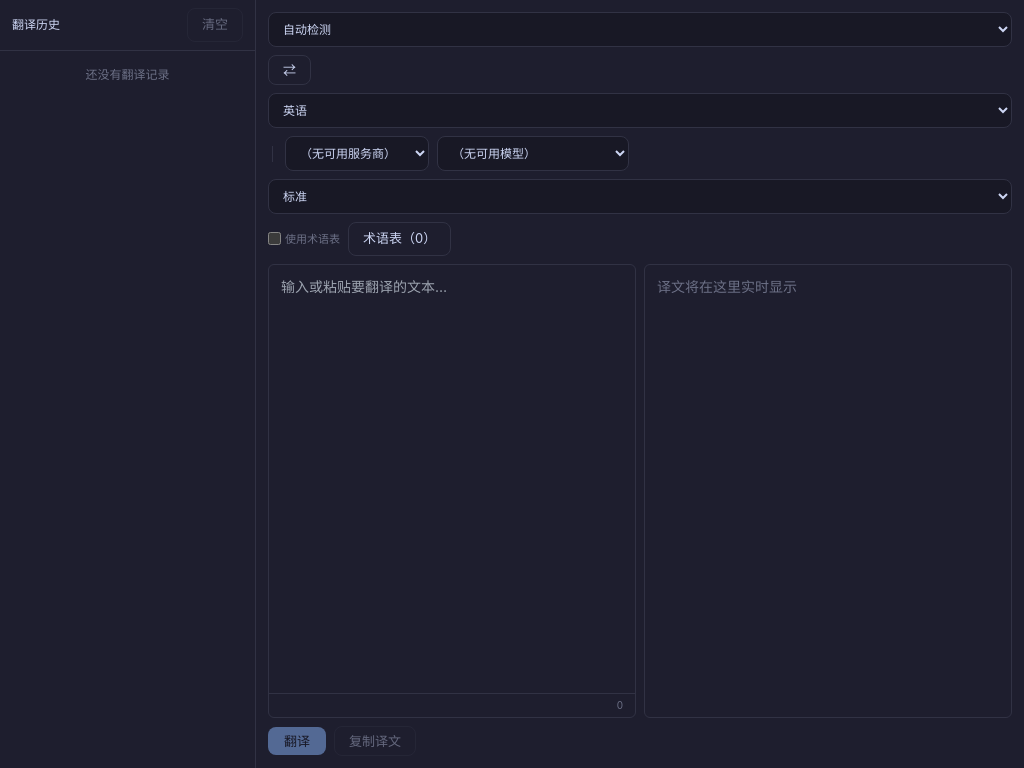
Test: 失败路径：输入必须留住（注释承诺的那件事现在真的成立） › reject 路径（桥异常）：内联那句「添加失败，请重试」出现，输入也保留
The width and height of the screenshot is (1024, 768).
Click the button "术语表（0）" at (400, 239), box 348,222 -> 451,256
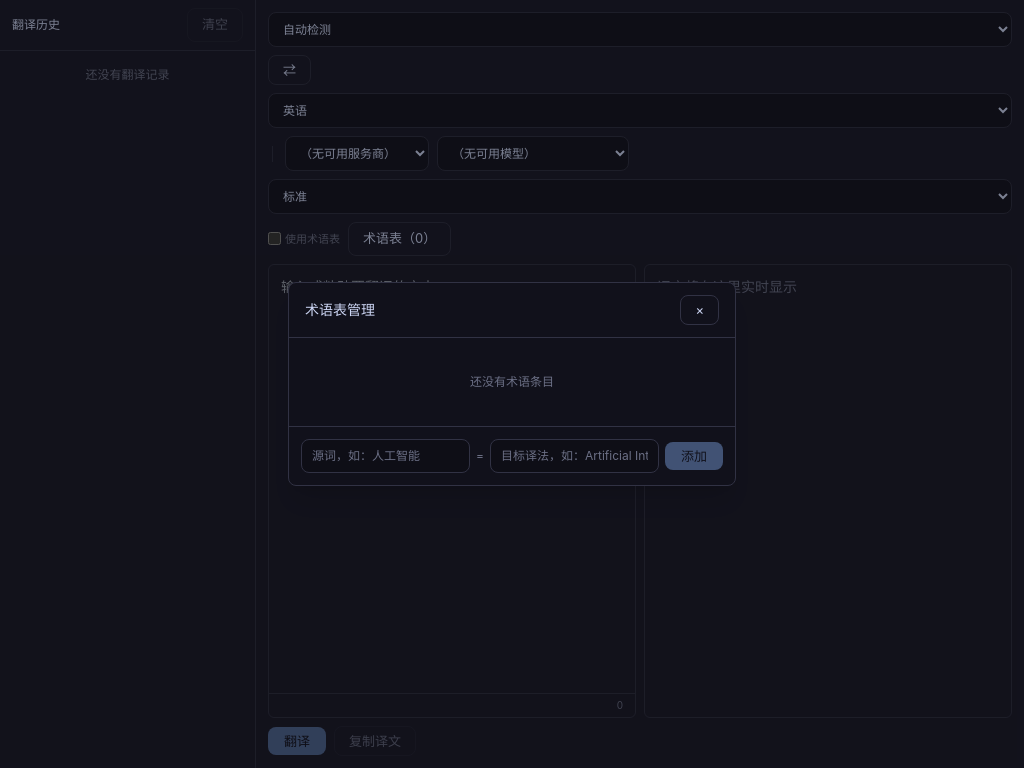
Type "人工智能" into the field with placeholder "源词，如：人工智能" at (386, 456), box 301,439 -> 470,473
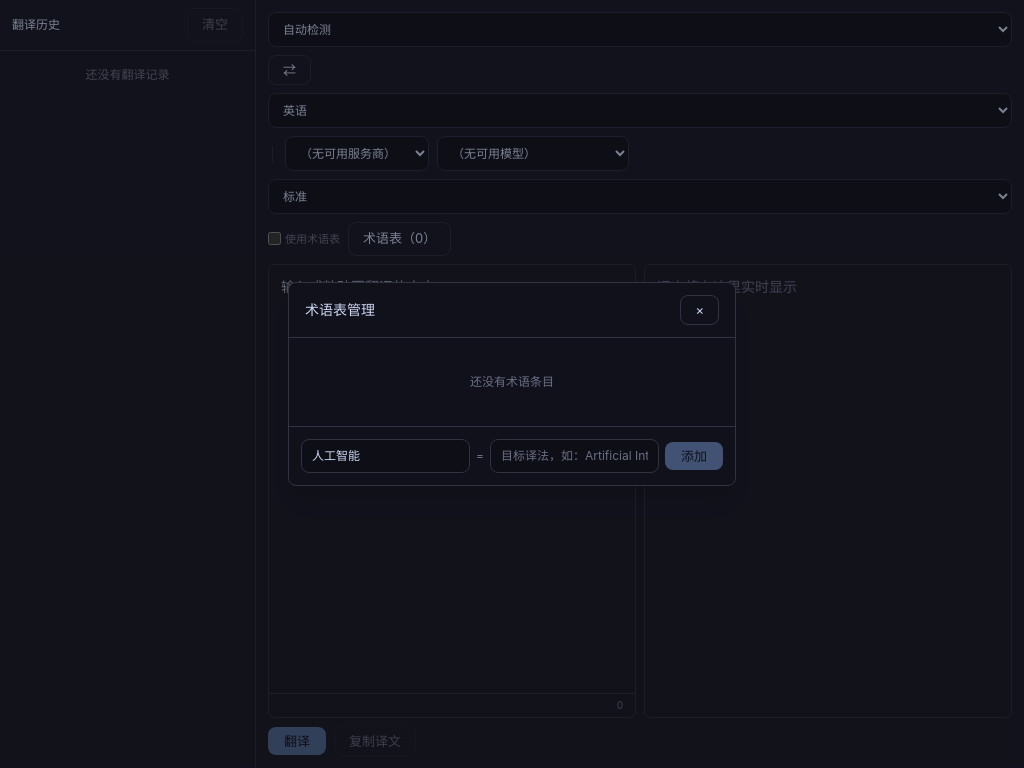
Type "AI" into the field with placeholder "目标译法，如：Artificial Intelligence" at (574, 456), box 490,439 -> 659,473
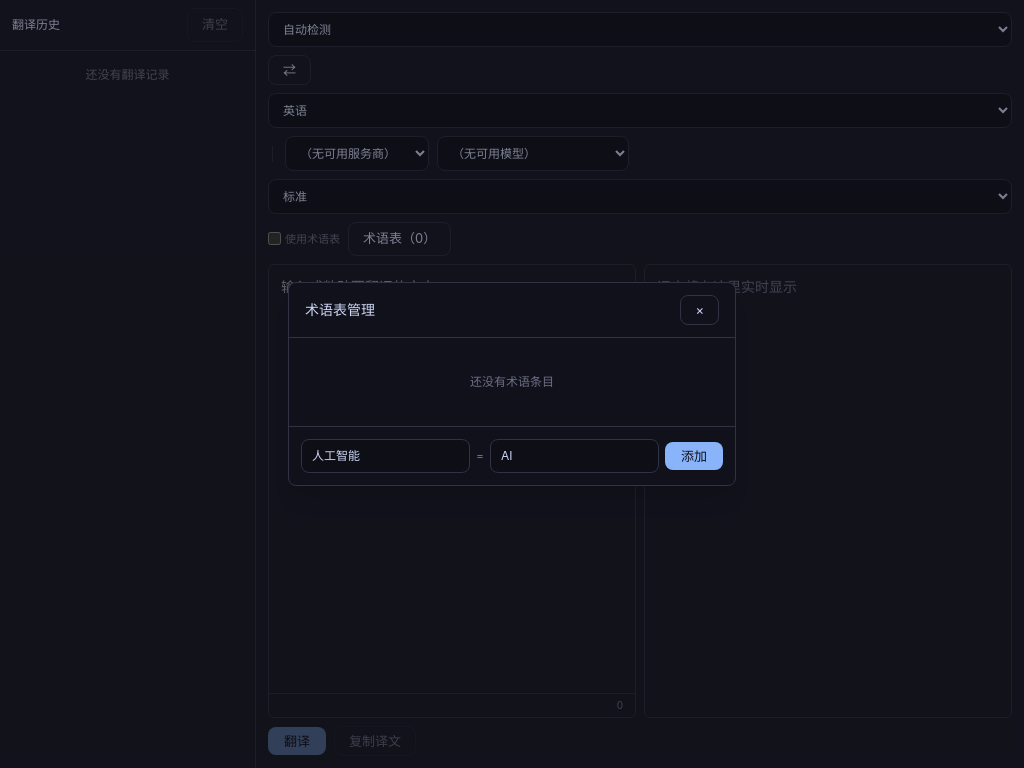
Click the button "添加" at (694, 456), box 665,442 -> 723,470
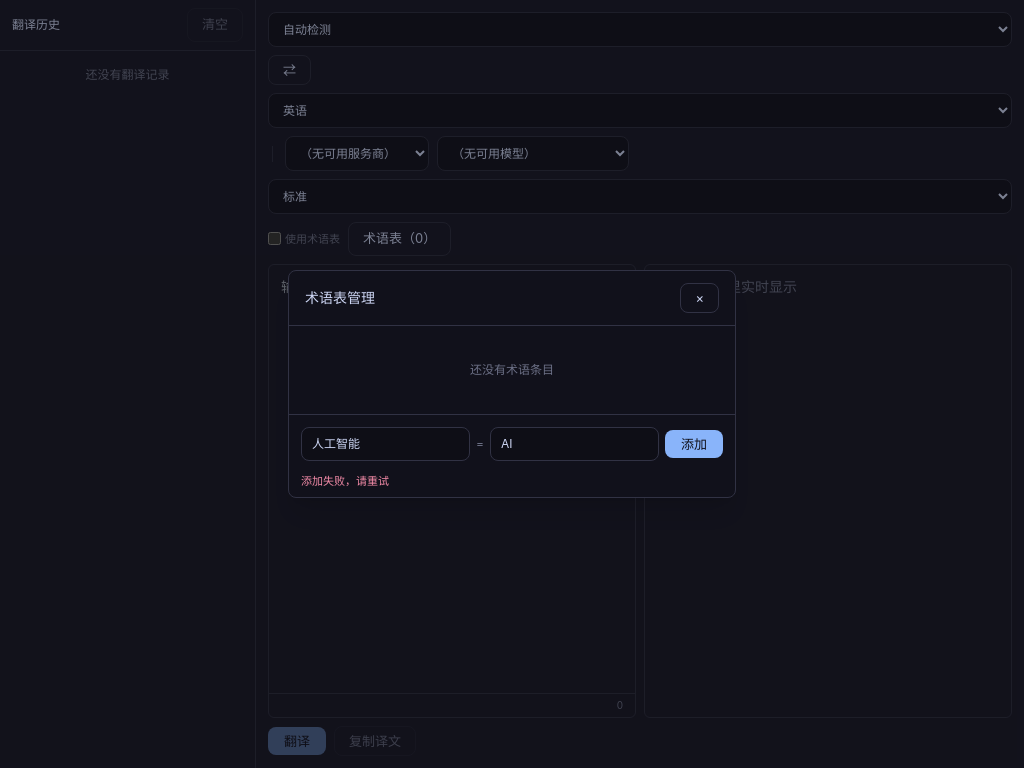
Now the text "添加失败，请重试" is shown, box 301,474 -> 389,488
